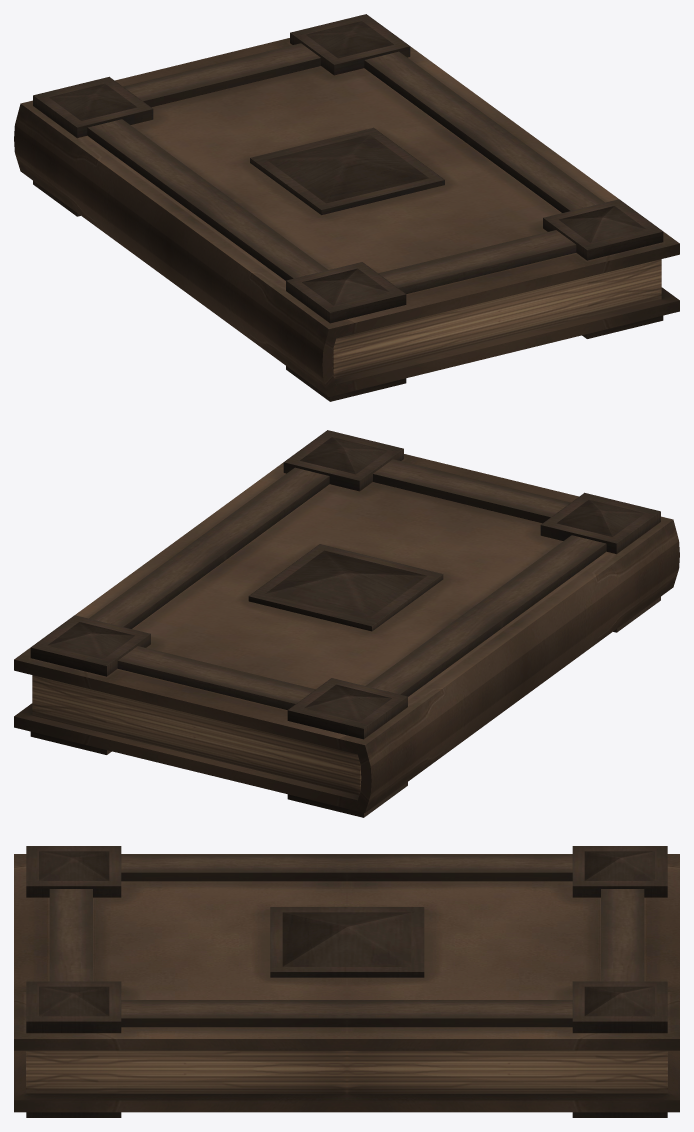
File: SpellBook_notrigged.fbx
3 views of the same model, one above another, from view 1: azimuth 30°, elevation 25°; view 2: azimuth 150°, elevation 25°; view 3: azimuth 270°, elevation 25° (orthographic). The views are drawn at different scales.
Visible parts, largest first — view 1: Spell_Book; view 2: Spell_Book; view 3: Spell_Book.
Part boxes in pixels (left/top/right/bottom): Spell_Book: left=14, top=14, right=679, bottom=401; Spell_Book: left=14, top=430, right=679, bottom=817; Spell_Book: left=14, top=846, right=679, bottom=1117.
Bounding box in the file's own units: 5.15 × 1.33 × 7.69.
